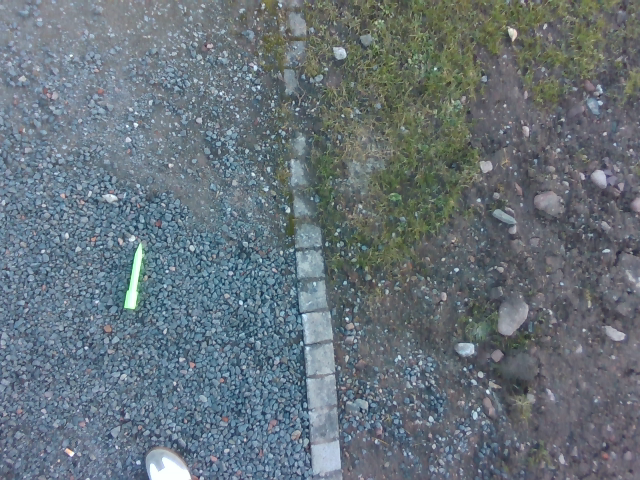Probe: (121, 239, 147, 313)
